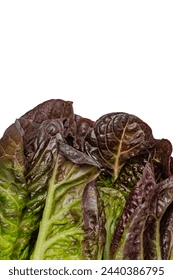lettuce: (25, 105, 155, 236)
